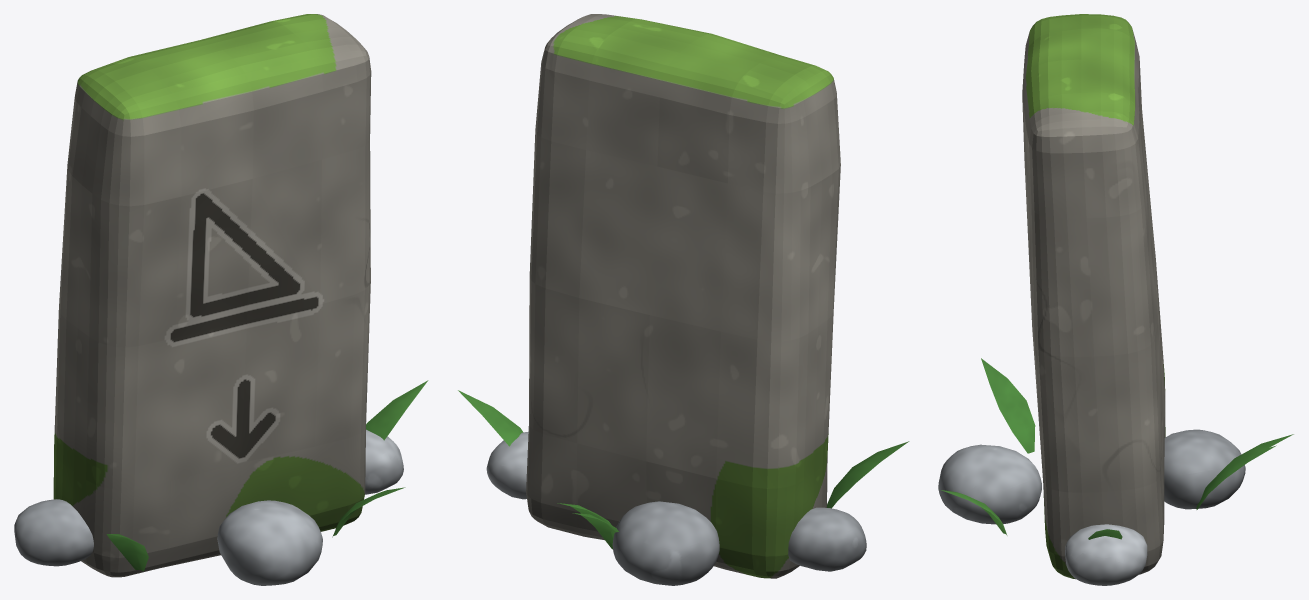
File: rune_stone_a.glb
The picture shows the model from 3 angles, left to right: view 1: azimuth 30°, elevation 25°; view 2: azimuth 150°, elevation 25°; view 3: azimuth 270°, elevation 25°; orthographic projection. The views are drawn at different scales.
Visible parts, largest first — view 1: RuneStoneA; view 2: RuneStoneA; view 3: RuneStoneA.
Boxes of the visible parts, x1,y1,x2,y2 form: RuneStoneA: (14, 14, 428, 585); RuneStoneA: (458, 14, 909, 585); RuneStoneA: (938, 14, 1293, 585).
Size of the model in its own units: 1.29 by 1.5 by 1.03.
Materials: 1 (1 with a texture image).
